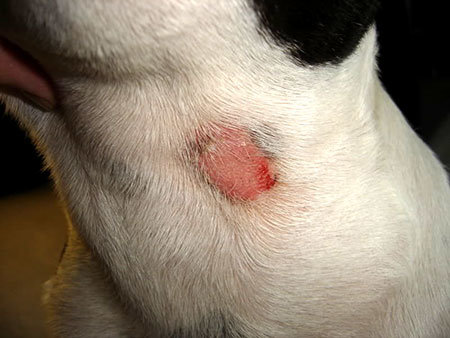ringworm: (195, 120, 276, 204)
